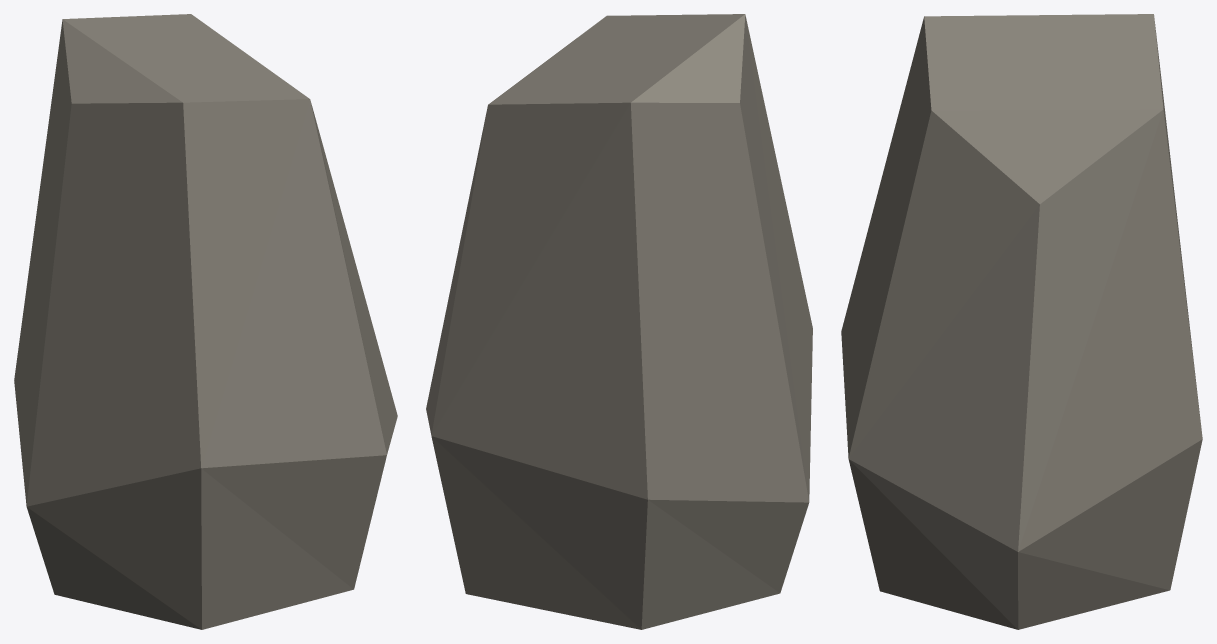
The model's file is TB_D_Env_RockC_A.FBX.
The picture shows the model from 3 angles, left to right: view 1: azimuth 30°, elevation 25°; view 2: azimuth 150°, elevation 25°; view 3: azimuth 270°, elevation 25°; orthographic projection. The views are drawn at different scales.
Visible parts, largest first — view 1: TB_D_Env_RockC_A; view 2: TB_D_Env_RockC_A; view 3: TB_D_Env_RockC_A.
Part boxes in pixels (x1,y1,x2,y2): TB_D_Env_RockC_A: (14, 14, 397, 629); TB_D_Env_RockC_A: (426, 14, 812, 629); TB_D_Env_RockC_A: (841, 14, 1202, 629).
Size of the model in its own units: 1.43 by 1.87 by 1.22.
